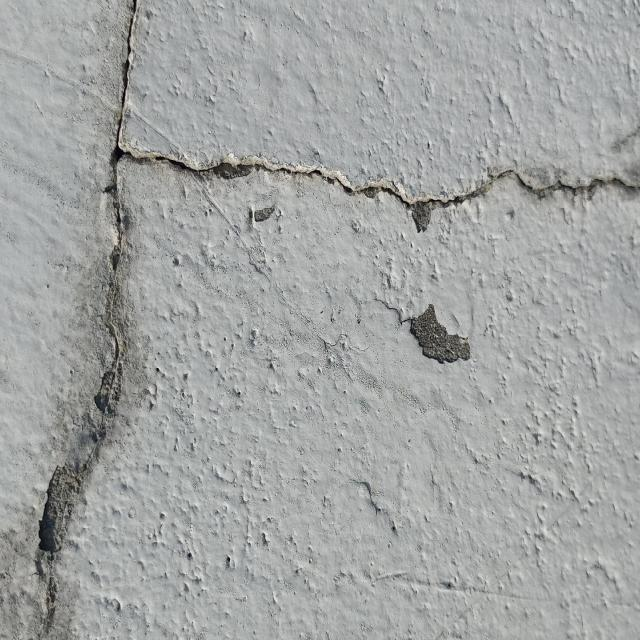SurfaceCrack: (2, 1, 194, 640), (75, 114, 639, 252)
